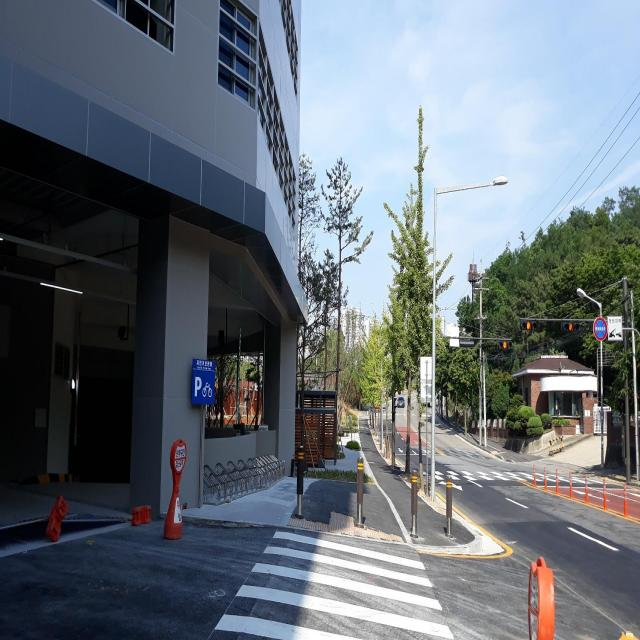횡단보도: (213, 528, 457, 640), (427, 462, 615, 491)
